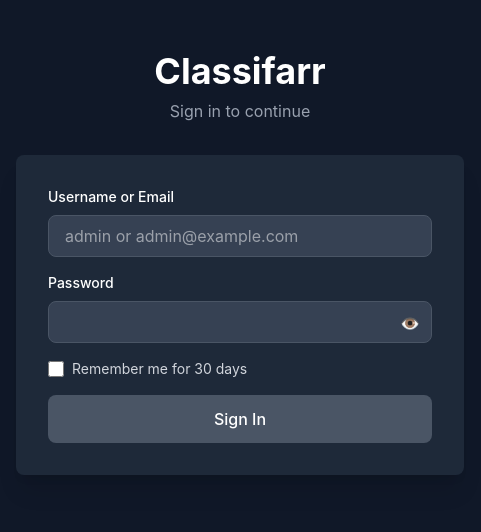
it: Login.vue › login submission › shows lockout message including minute countdown
Type "admin" into the field with placeholder "admin or admin@example.com". click: point(240, 236)
box: [48, 215, 432, 257]
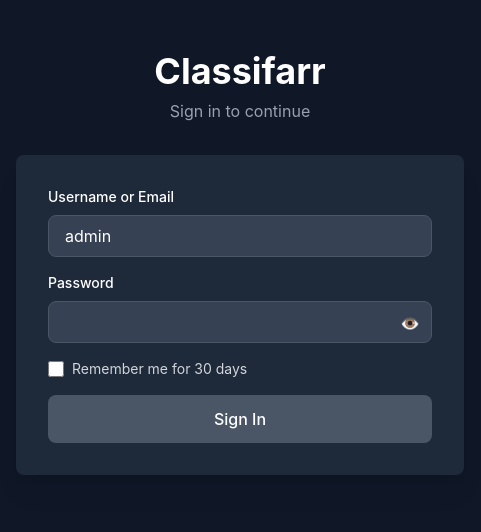
Type "wrongpass" into the password field. click: point(240, 322)
box: [48, 301, 432, 343]
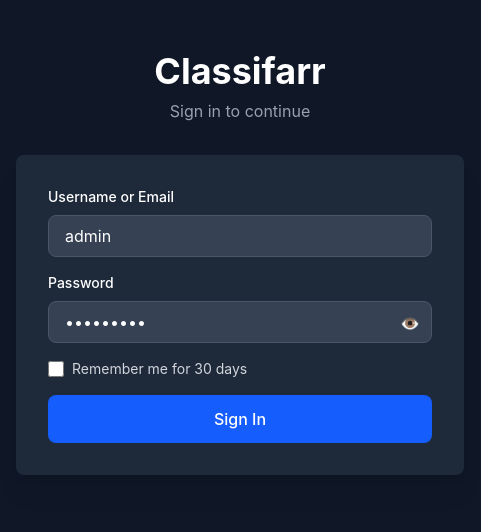
Submit the form, box [48, 187, 432, 443]
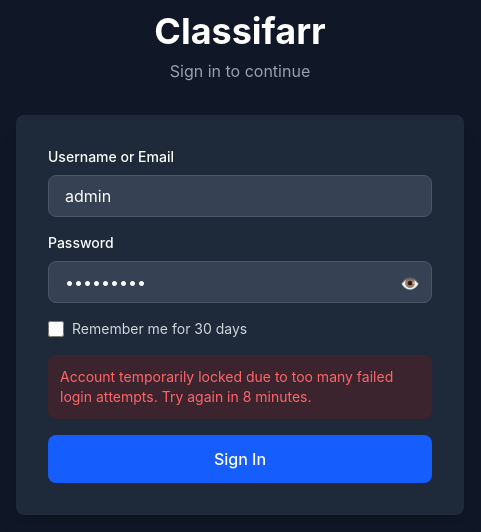
Expected: the text "temporarily locked" is shown, [60, 368, 393, 405]
Expected: the text "8 minutes" is shown, [60, 368, 393, 405]
